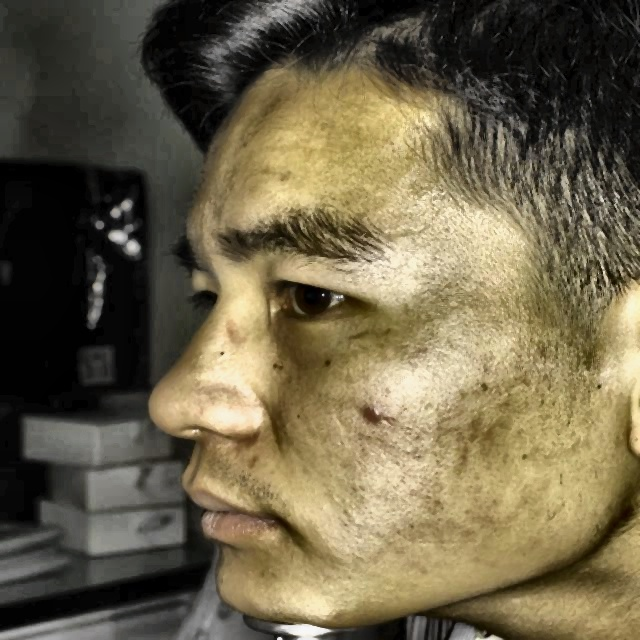comedone: (355, 400, 393, 435)
